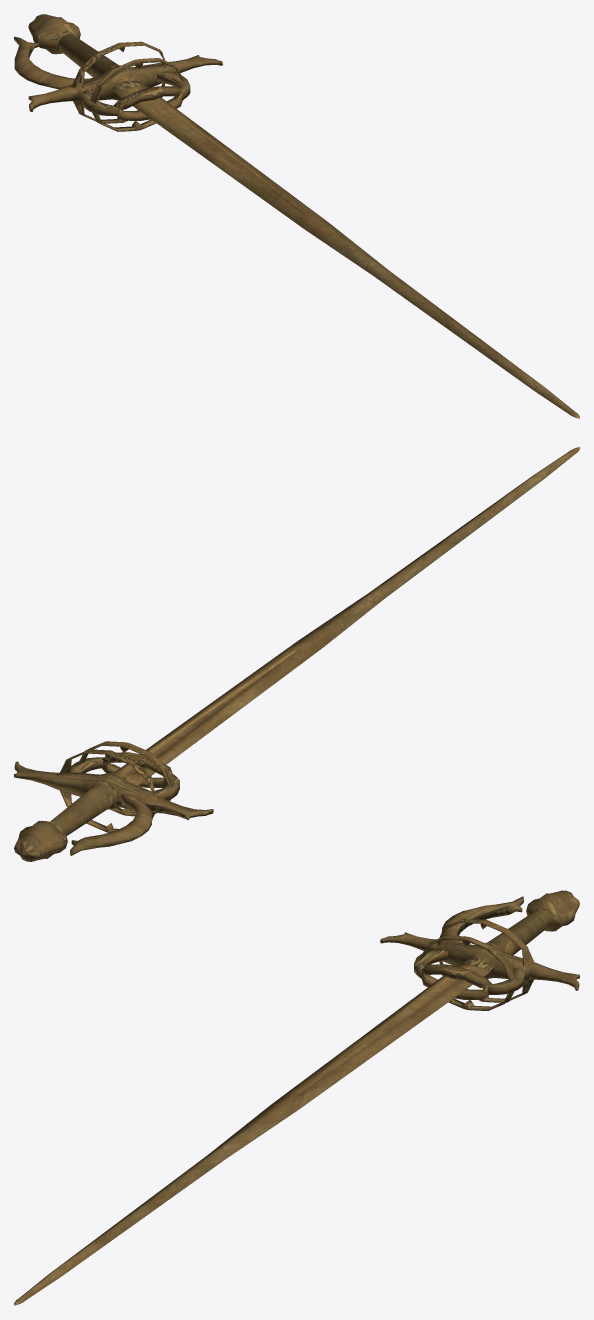
Rendered from epee_narnia.fbx.
The picture shows the model from 3 angles, top to bottom: view 1: azimuth 30°, elevation 25°; view 2: azimuth 150°, elevation 25°; view 3: azimuth 330°, elevation 25°; orthographic projection. The views are drawn at different scales.
Parts seen in each view (by area): view 1: rekojsc3lp_Cube.007; view 2: rekojsc3lp_Cube.007; view 3: rekojsc3lp_Cube.007.
Boxes of the visible parts, x1,y1,x2,y2 form: rekojsc3lp_Cube.007: [14, 14, 579, 418]; rekojsc3lp_Cube.007: [14, 447, 579, 861]; rekojsc3lp_Cube.007: [14, 890, 579, 1305].
Size of the model in its own units: 40.99 by 15.63 by 200.
3 materials, 3 textured.
